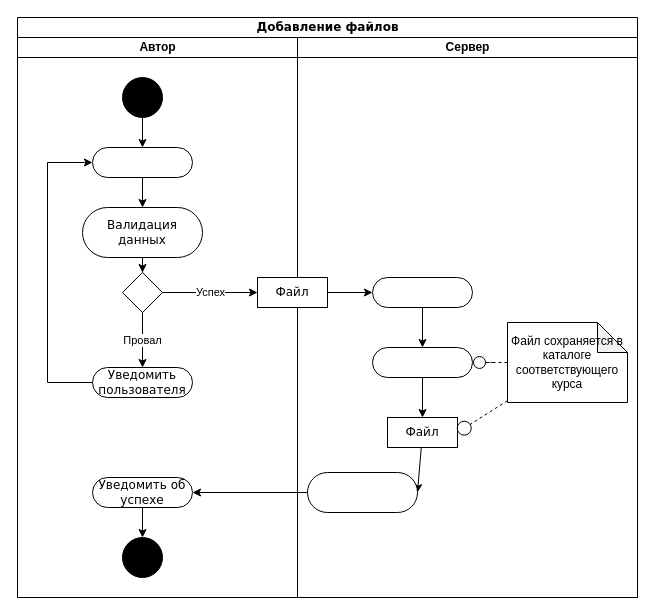
Some shapes in this 655 by 615 pixel diagram are drawn without their labels. Each missing label, with the centre of its shape:
Загрузка файла: the point at 142,162
Отпровляет сообщение об успехе: the point at 362,492
Получение файла: the point at 422,292
Сохранение файла: the point at 422,362
